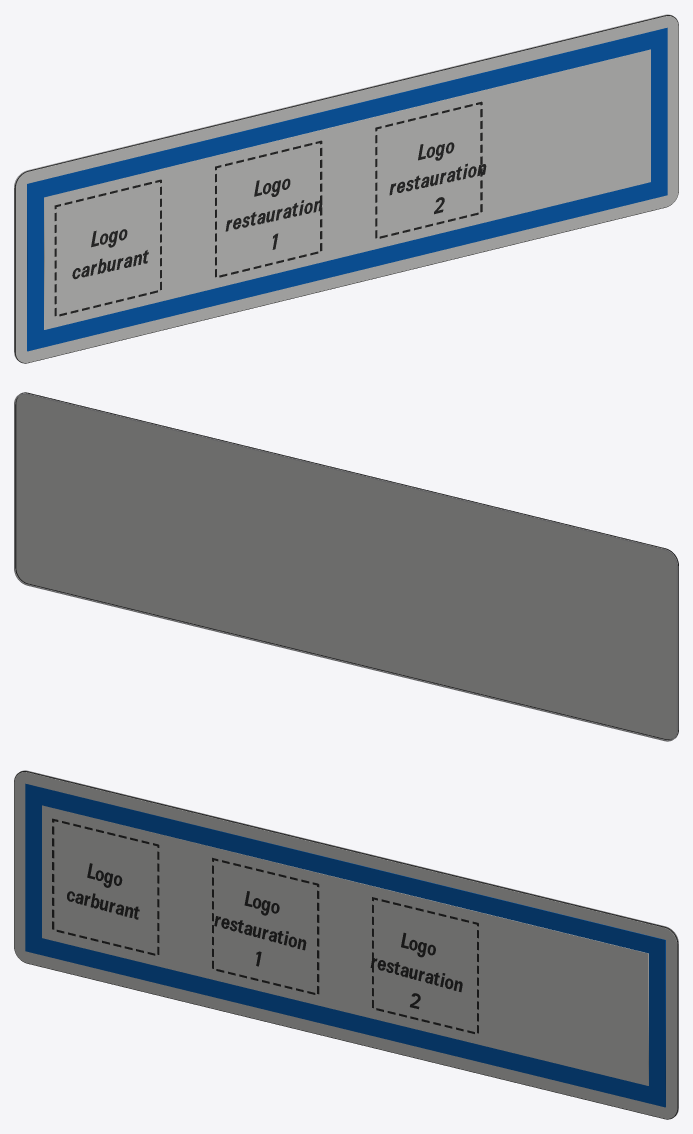
The picture shows the model from 3 angles, top to bottom: view 1: azimuth 30°, elevation 25°; view 2: azimuth 150°, elevation 25°; view 3: azimuth 330°, elevation 25°; orthographic projection.
Visible parts, largest first — view 1: CE100_p03, CE100_p02, CE100_p01, CE100_p00, CE100_dos, CE100_p06, CE100_p04, CE100_p05; view 2: CE100_p01, CE100_dos, CE100_p00; view 3: CE100_p03, CE100_p02, CE100_p01, CE100_p00, CE100_dos, CE100_p04, CE100_p05, CE100_p06.
Boxes of the visible parts, left/top/right/bottom form: CE100_p03: left=44, top=49, right=650, bottom=329; CE100_p02: left=27, top=27, right=667, bottom=351; CE100_p01: left=15, top=16, right=678, bottom=362; CE100_p00: left=14, top=15, right=678, bottom=363; CE100_dos: left=14, top=14, right=672, bottom=360; CE100_p06: left=375, top=101, right=482, bottom=238; CE100_p04: left=54, top=179, right=161, bottom=316; CE100_p05: left=215, top=140, right=322, bottom=277; CE100_p01: left=16, top=394, right=676, bottom=739; CE100_dos: left=14, top=393, right=678, bottom=741; CE100_p00: left=15, top=392, right=678, bottom=739; CE100_p03: left=42, top=805, right=648, bottom=1085; CE100_p02: left=25, top=783, right=665, bottom=1107; CE100_p01: left=14, top=772, right=677, bottom=1118; CE100_p00: left=14, top=771, right=678, bottom=1119; CE100_dos: left=20, top=770, right=678, bottom=1116; CE100_p04: left=52, top=818, right=159, bottom=955; CE100_p05: left=212, top=857, right=319, bottom=994; CE100_p06: left=372, top=897, right=478, bottom=1033.
Bounding box in the file's own units: 0.7 × 0.1936 × 0.0231.
